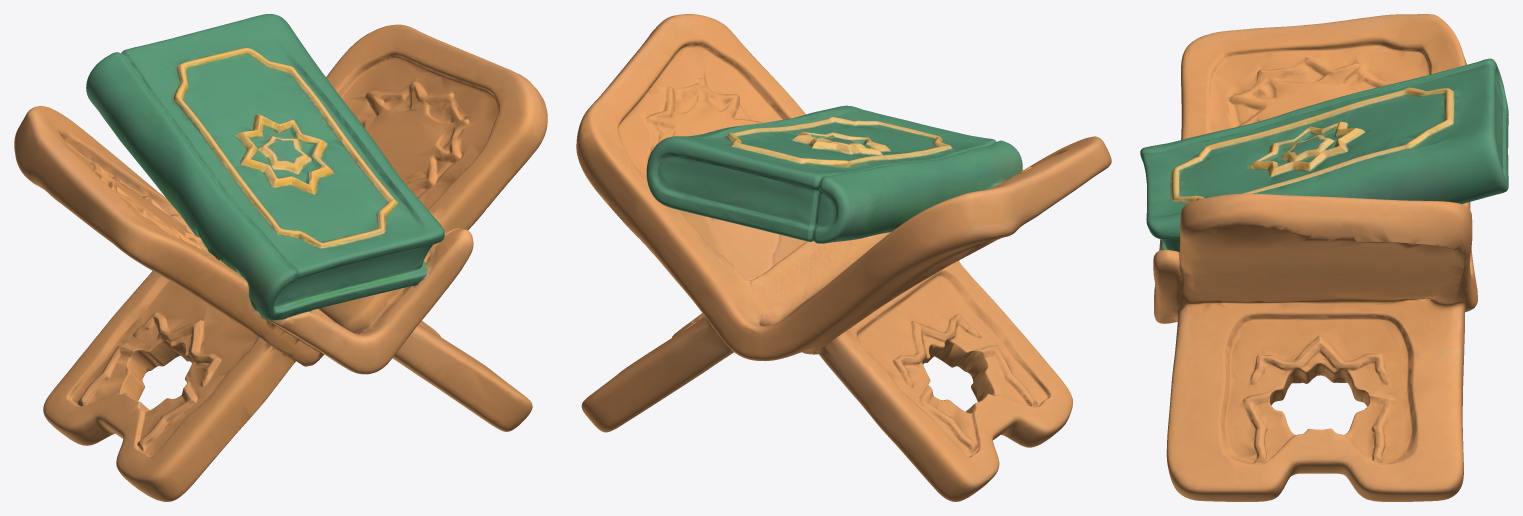
File: rehal-quran.glb
3 views of the same model, side by side, from view 1: azimuth 30°, elevation 25°; view 2: azimuth 150°, elevation 25°; view 3: azimuth 270°, elevation 25° (orthographic).
Size of the model in its own units: 1.9 by 1.39 by 1.42.
1 material, 1 textured.
